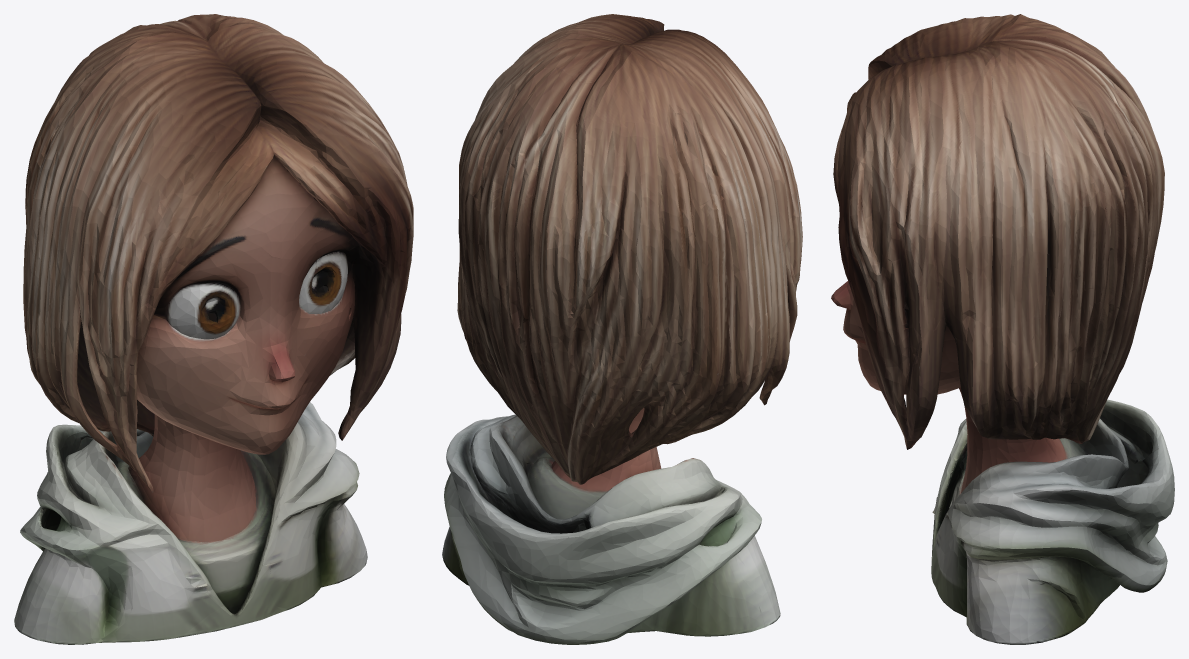
File: Cutie2Avatar.glb
3 views of the same model, side by side, from view 1: azimuth 30°, elevation 25°; view 2: azimuth 150°, elevation 25°; view 3: azimuth 270°, elevation 25° (orthographic). The views are drawn at different scales.
Parts seen in each view (by area): view 1: world; view 2: world; view 3: world.
Boxes of the visible parts, x1,y1,x2,y2 form: world: (14,14,413,644); world: (442,14,802,644); world: (831,14,1174,644).
Size of the model in its own units: 0.6282 by 0.9924 by 0.5769.
Materials: 1 (1 with a texture image).
